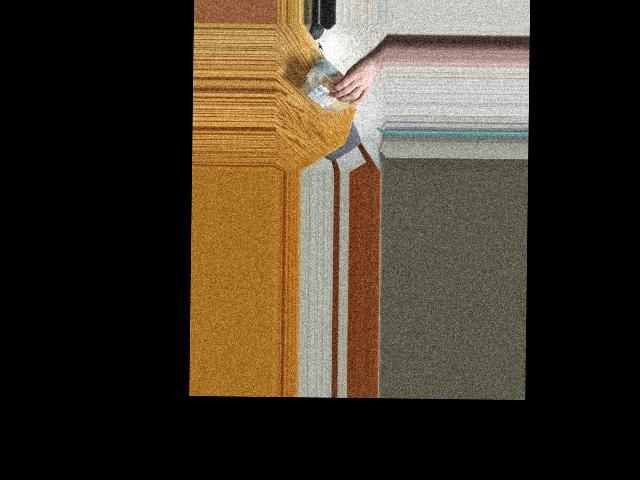cheese: (300, 60, 365, 113)
